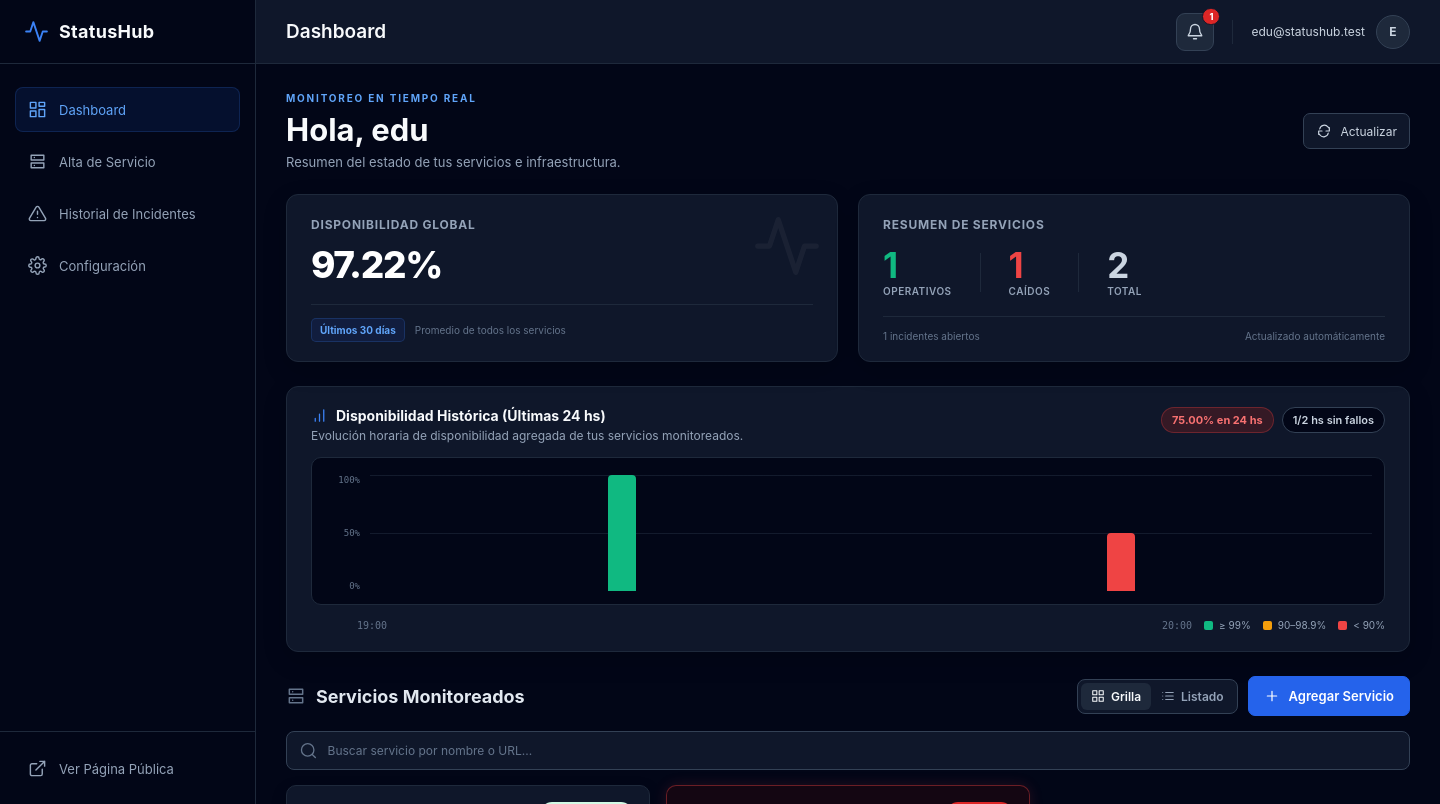
Test: Dashboard — Disponibilidad histórica, vista Grilla/Listado, modal de detalle y Notificaciones › abre popover al clickear Notificaciones y navega al Historial de Incidentes al clickear un item
The width and height of the screenshot is (1440, 804).
# Click en campana abre popover, no navega aún
Click the button named "notificaciones de incidentes abiertos" at (1196, 32), box x1=1176 y1=12 x2=1214 y2=50
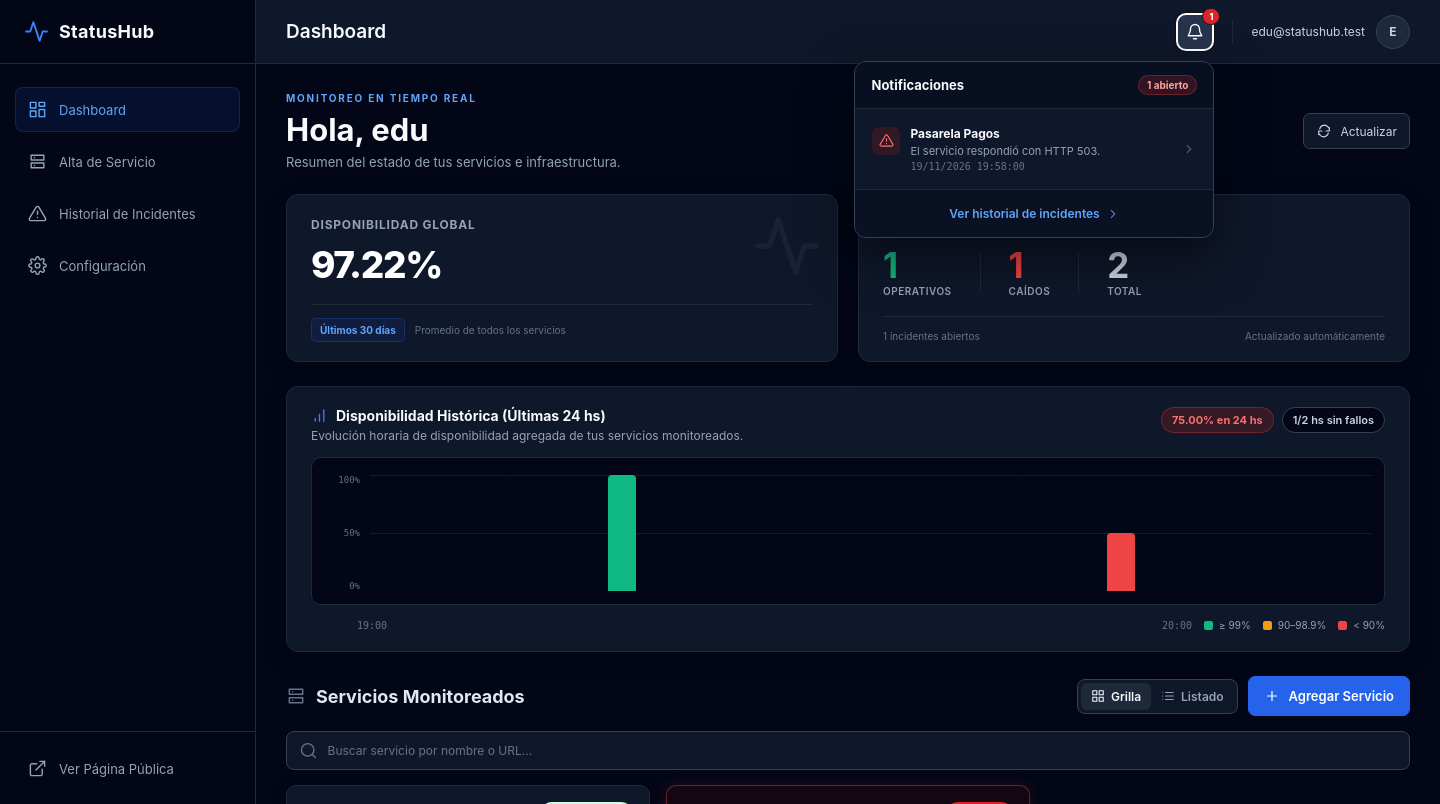
Expected: the dialog named "Notificaciones recientes" is shown, x1=854 y1=60 x2=1214 y2=238
Expected: the text "El servicio respondió con HTTP 503." is shown
# Click en la notificación lleva al Historial de Incidentes y abre el detalle
Click the text "El servicio respondió con HTTP 503." at (1005, 150), box x1=910 y1=144 x2=1100 y2=158
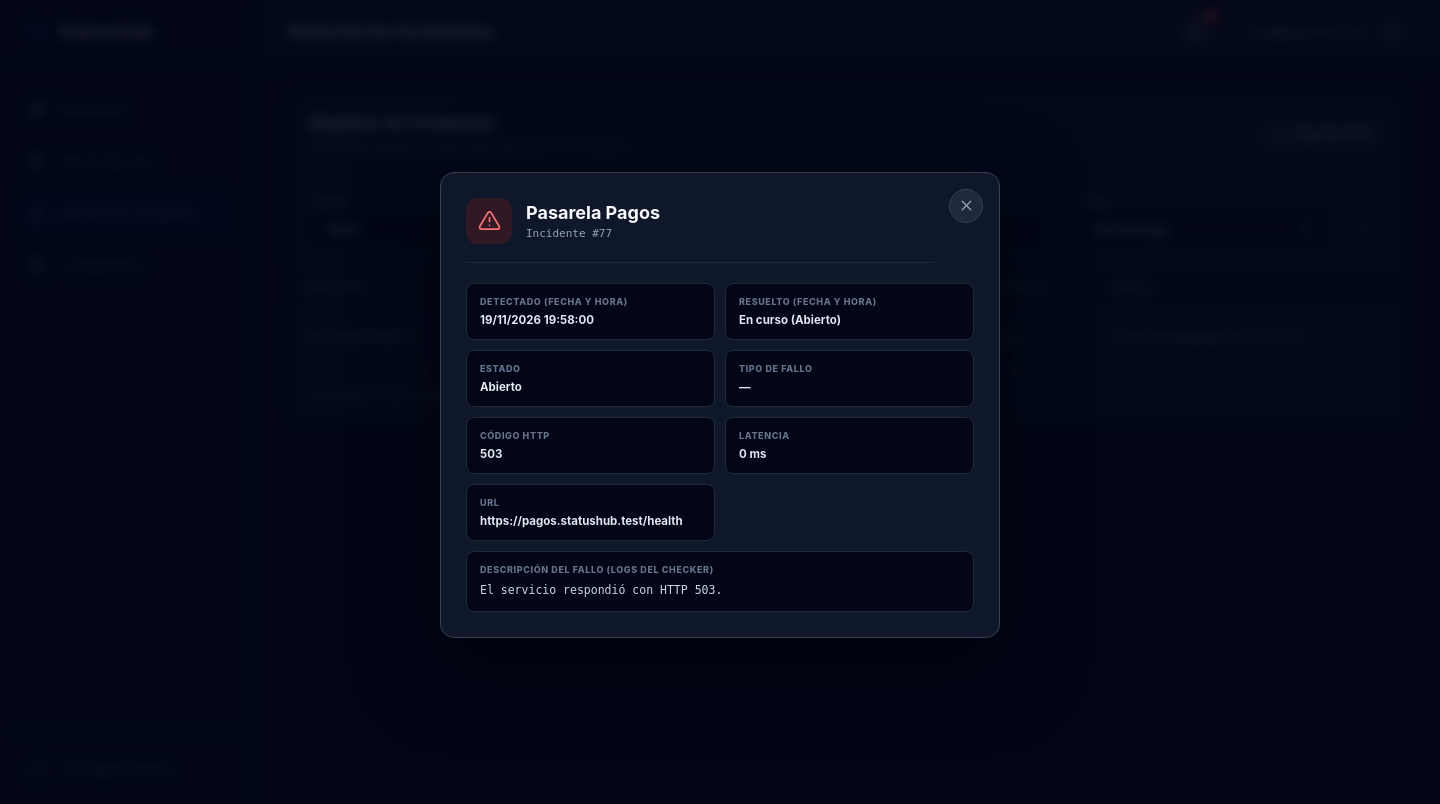
Expected: the text "Incidente #77" is shown, x1=526 y1=227 x2=612 y2=240
